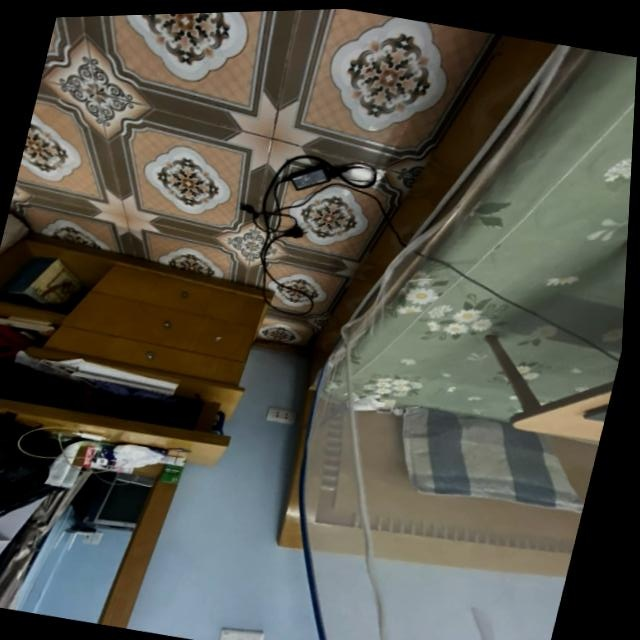outlet: (265, 405, 298, 424)
